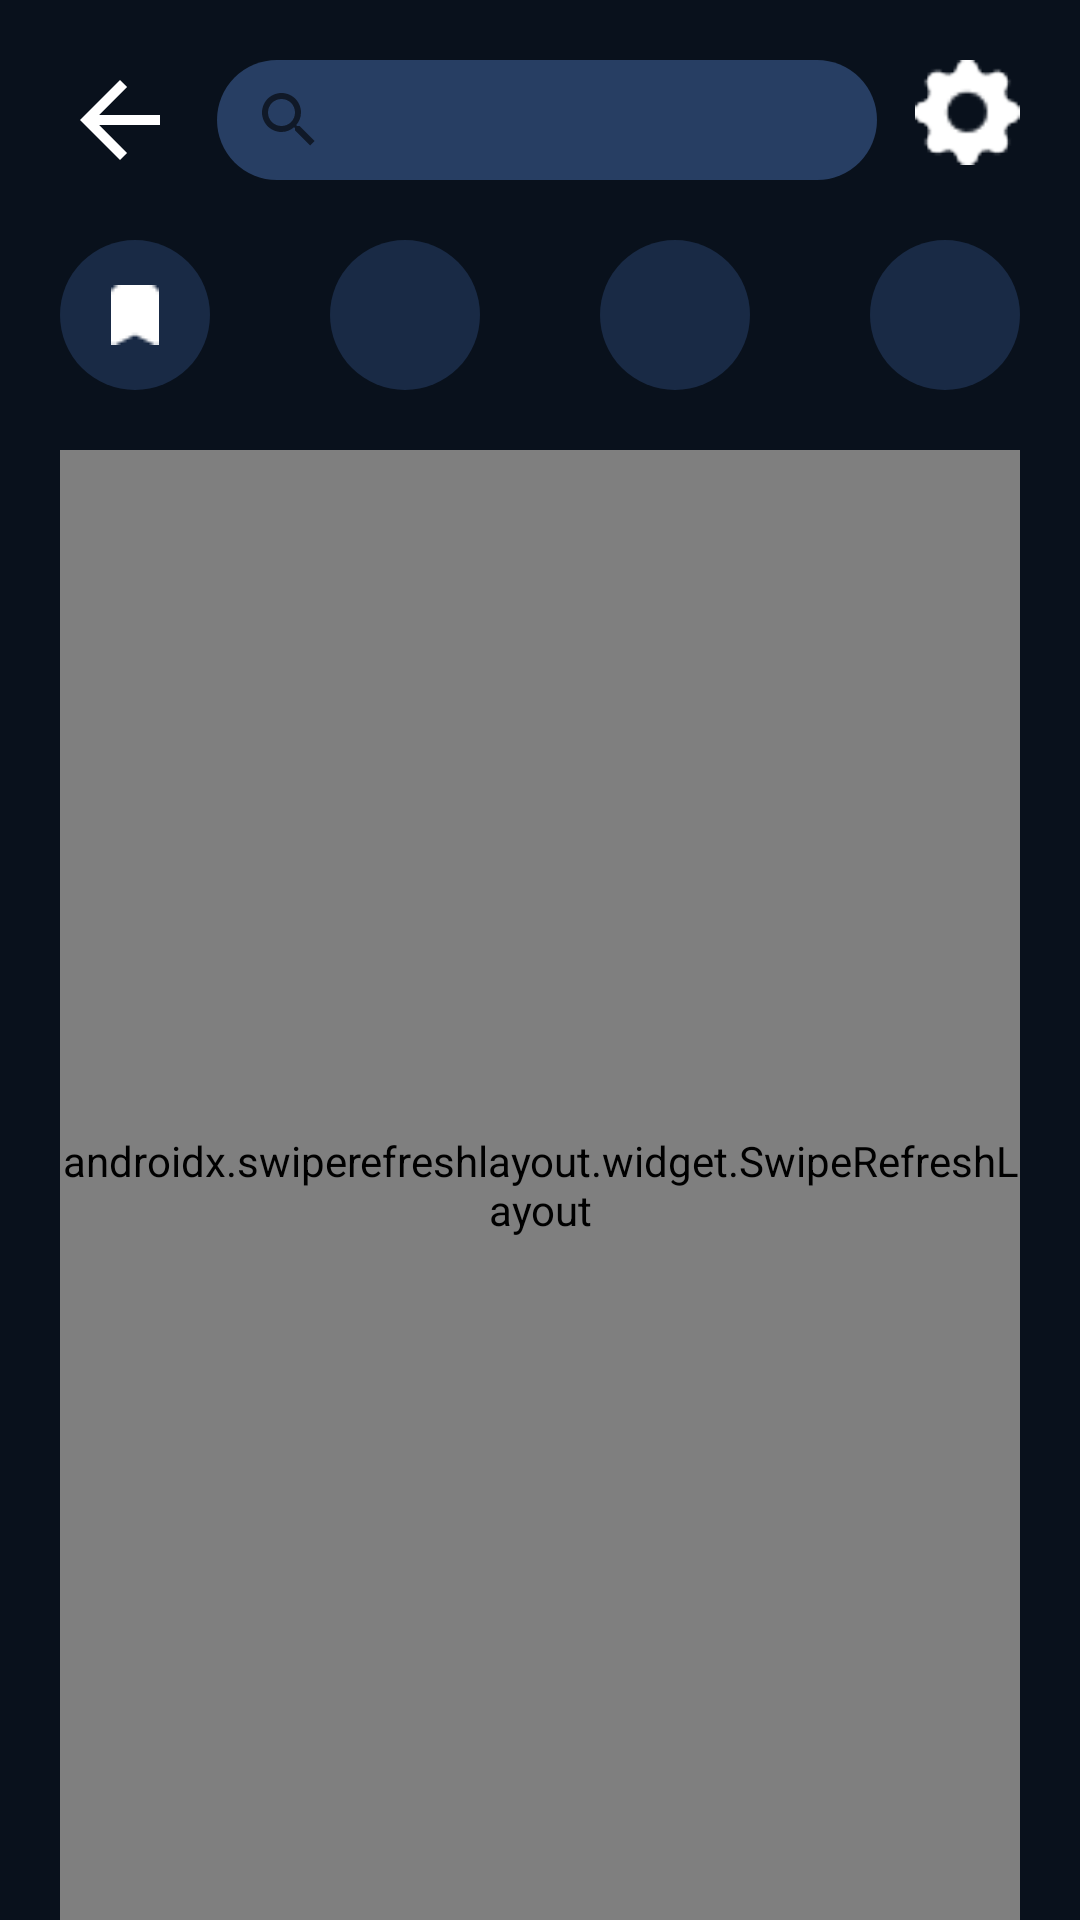

Named icons in this screenshot (1080 x 1920) and their bounding boxes, (x1, y1, x2, y2):
bookmark checked: (111, 285, 159, 345)
settings: (915, 60, 1020, 165)
